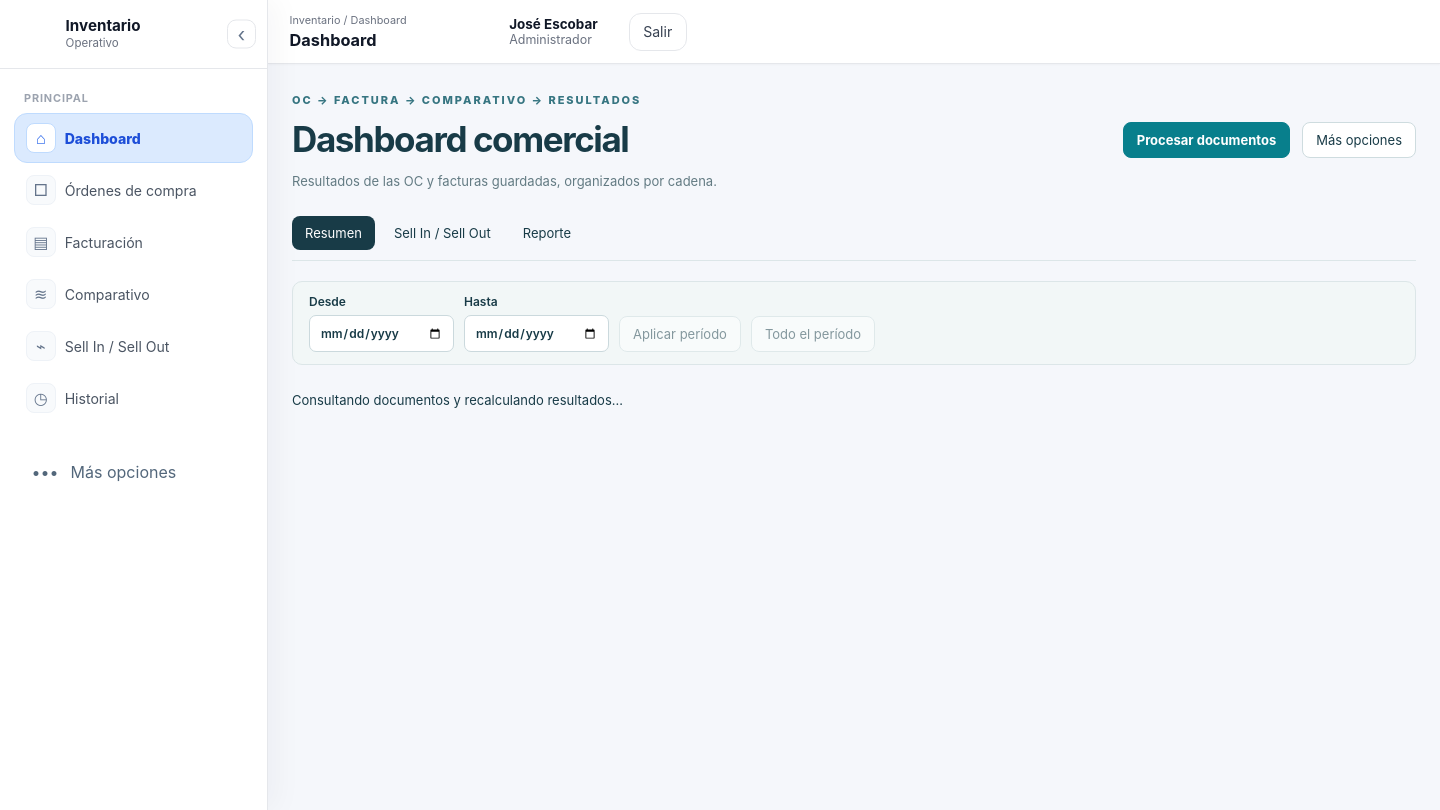
Dashboard › Procesar documentos tiene una entrada propia separada del Dashboard
This screenshot has width=1440, height=810.
What coordinates should you click on to do the following:
click the button "Procesar documentos"
I would click on:
 (1206, 140)
Its box is [1123,122,1290,158].
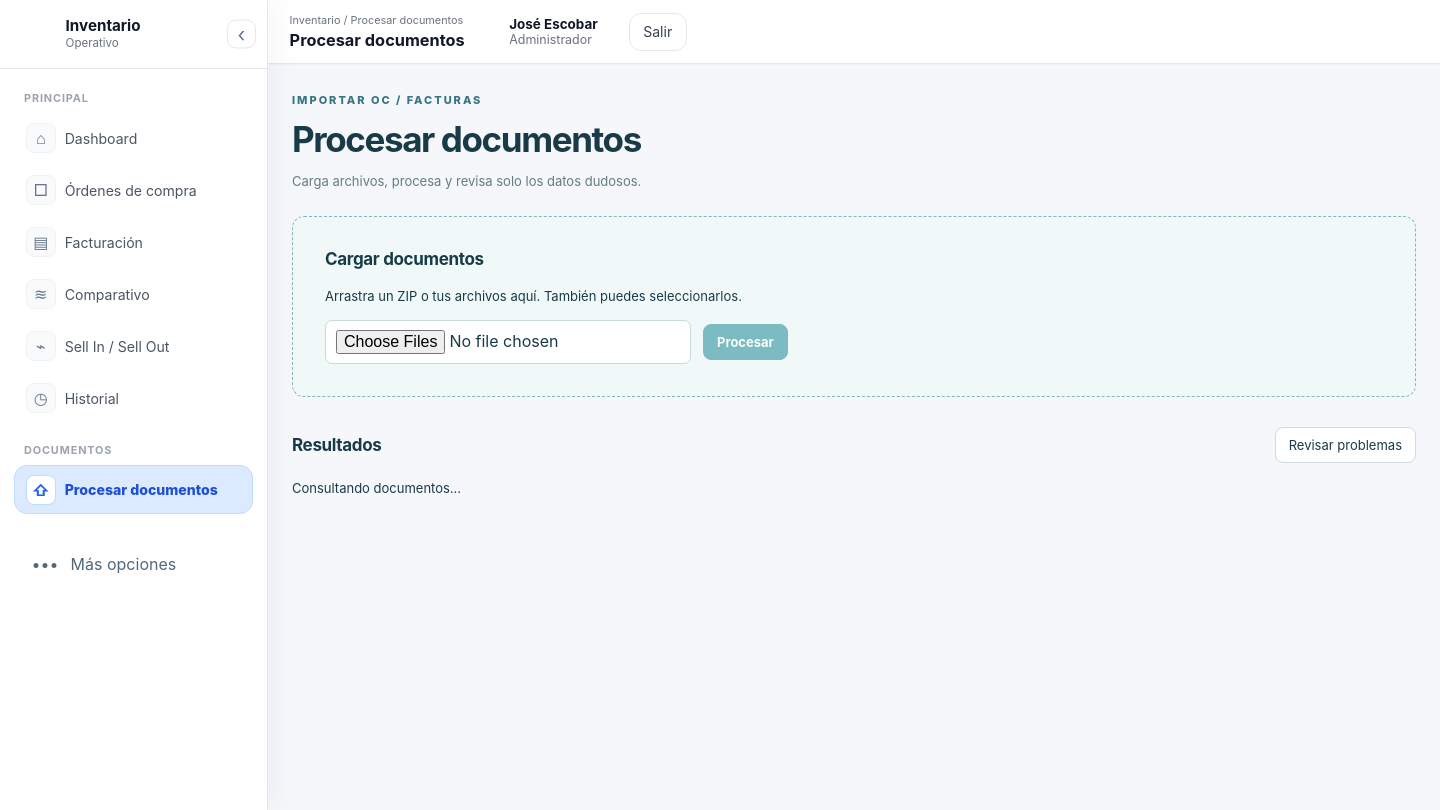
Expected: the heading "Procesar documentos" is shown, [292,118,641,160]
Expected: the file field named "Archivos comerciales" is shown, [325,320,691,364]
Expected: the heading "Dashboard comercial" is gone
What coordinates should you click on to do the following:
click the button "⌂ Dashboard"
I would click on:
 (134, 138)
Its box is [14,113,253,163].
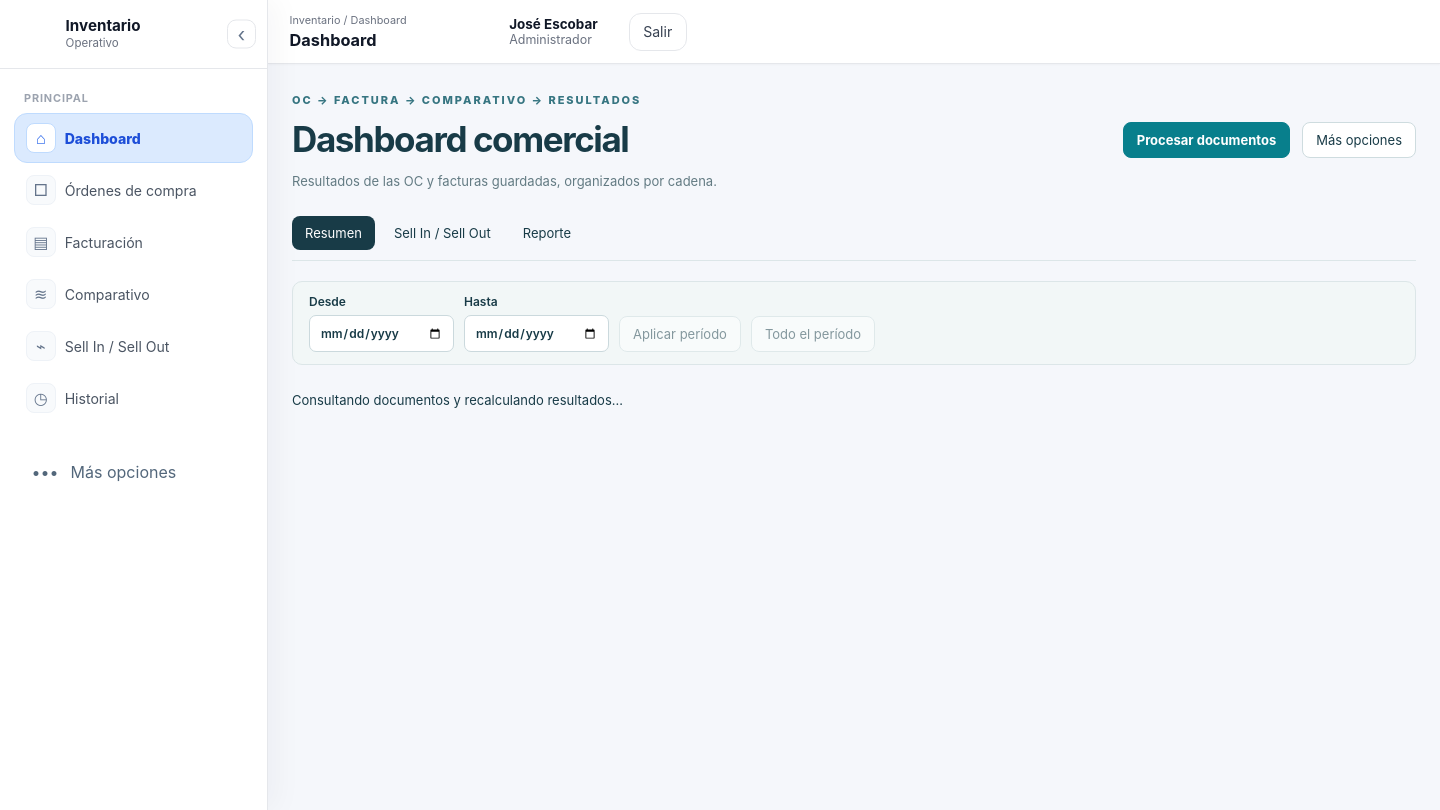
Expected: the heading "Dashboard comercial" is shown, [292,118,628,160]
